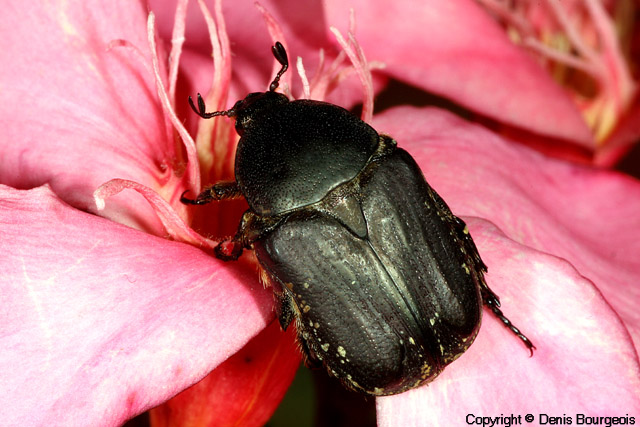Protaetia_oblonga: (180, 41, 536, 399)
